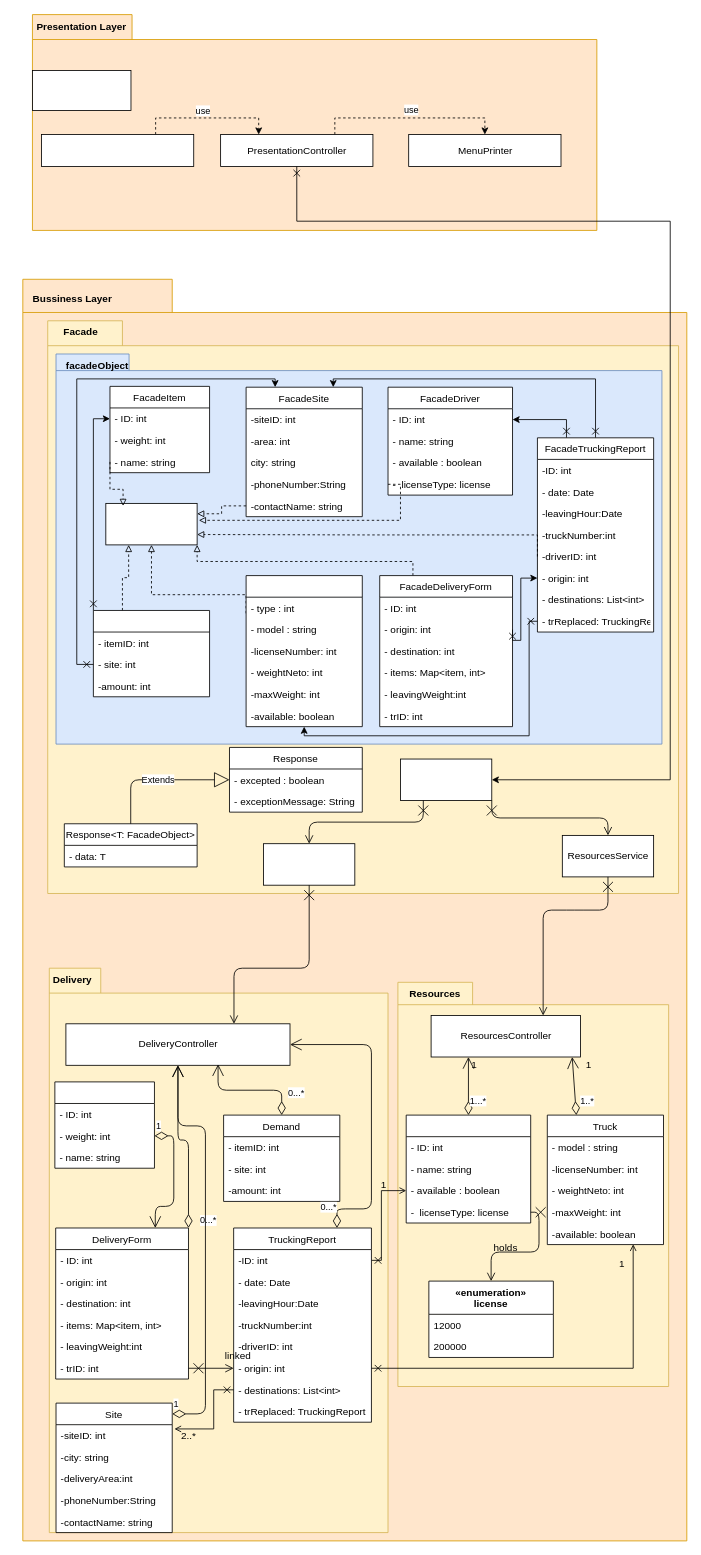
Some shapes in this 701 by 1555 pixel diagram are drawn without their labels. Each missing label, with the box of its shape:
DeliveryService: (263, 843, 355, 885)
Driver: (405, 1114, 531, 1223)
FacadeDemand: (93, 610, 210, 697)
FacadeService: (400, 758, 492, 801)
FacadeTruck: (245, 575, 362, 727)
Item: (54, 1081, 154, 1168)
main: (41, 134, 194, 166)
StringConverter: (32, 70, 131, 110)
«interface» FacadeObject: (105, 503, 197, 545)
